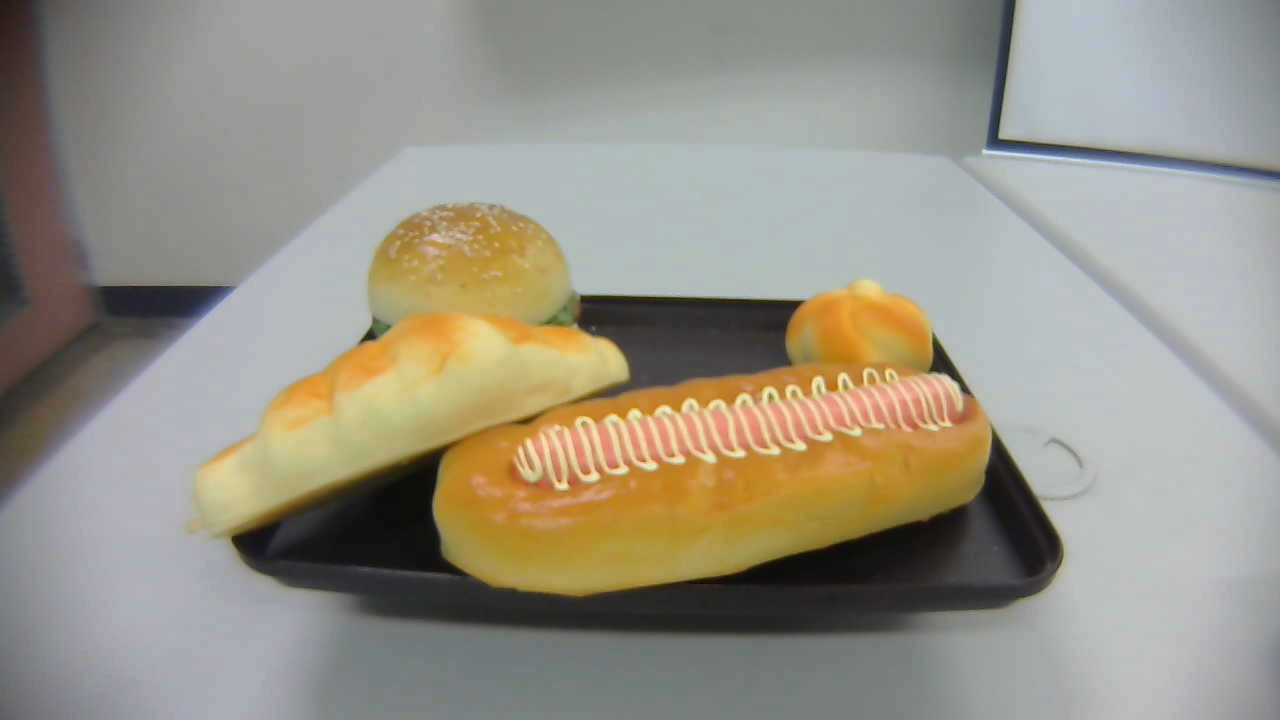croissant: (184, 314, 631, 535)
hamburger: (365, 198, 582, 377)
hot dog: (433, 362, 993, 597)
twist bread: (784, 276, 936, 404)
